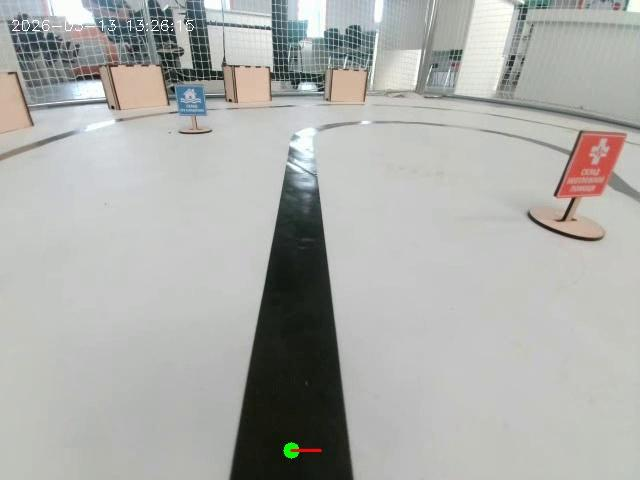flood: (171, 73, 216, 151)
medical: (548, 120, 633, 261)
